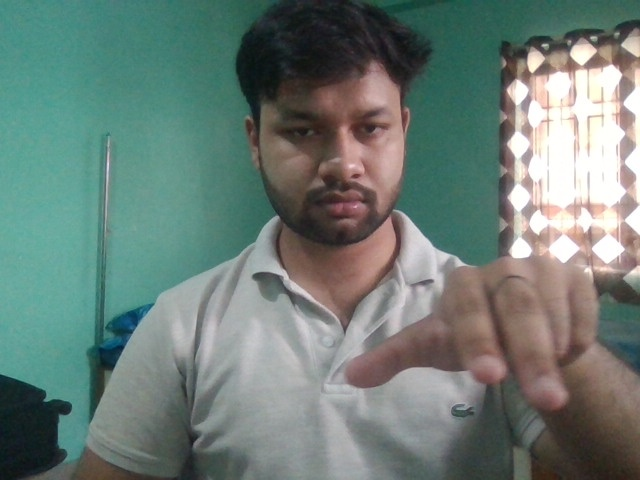No: (345, 254, 603, 423)
